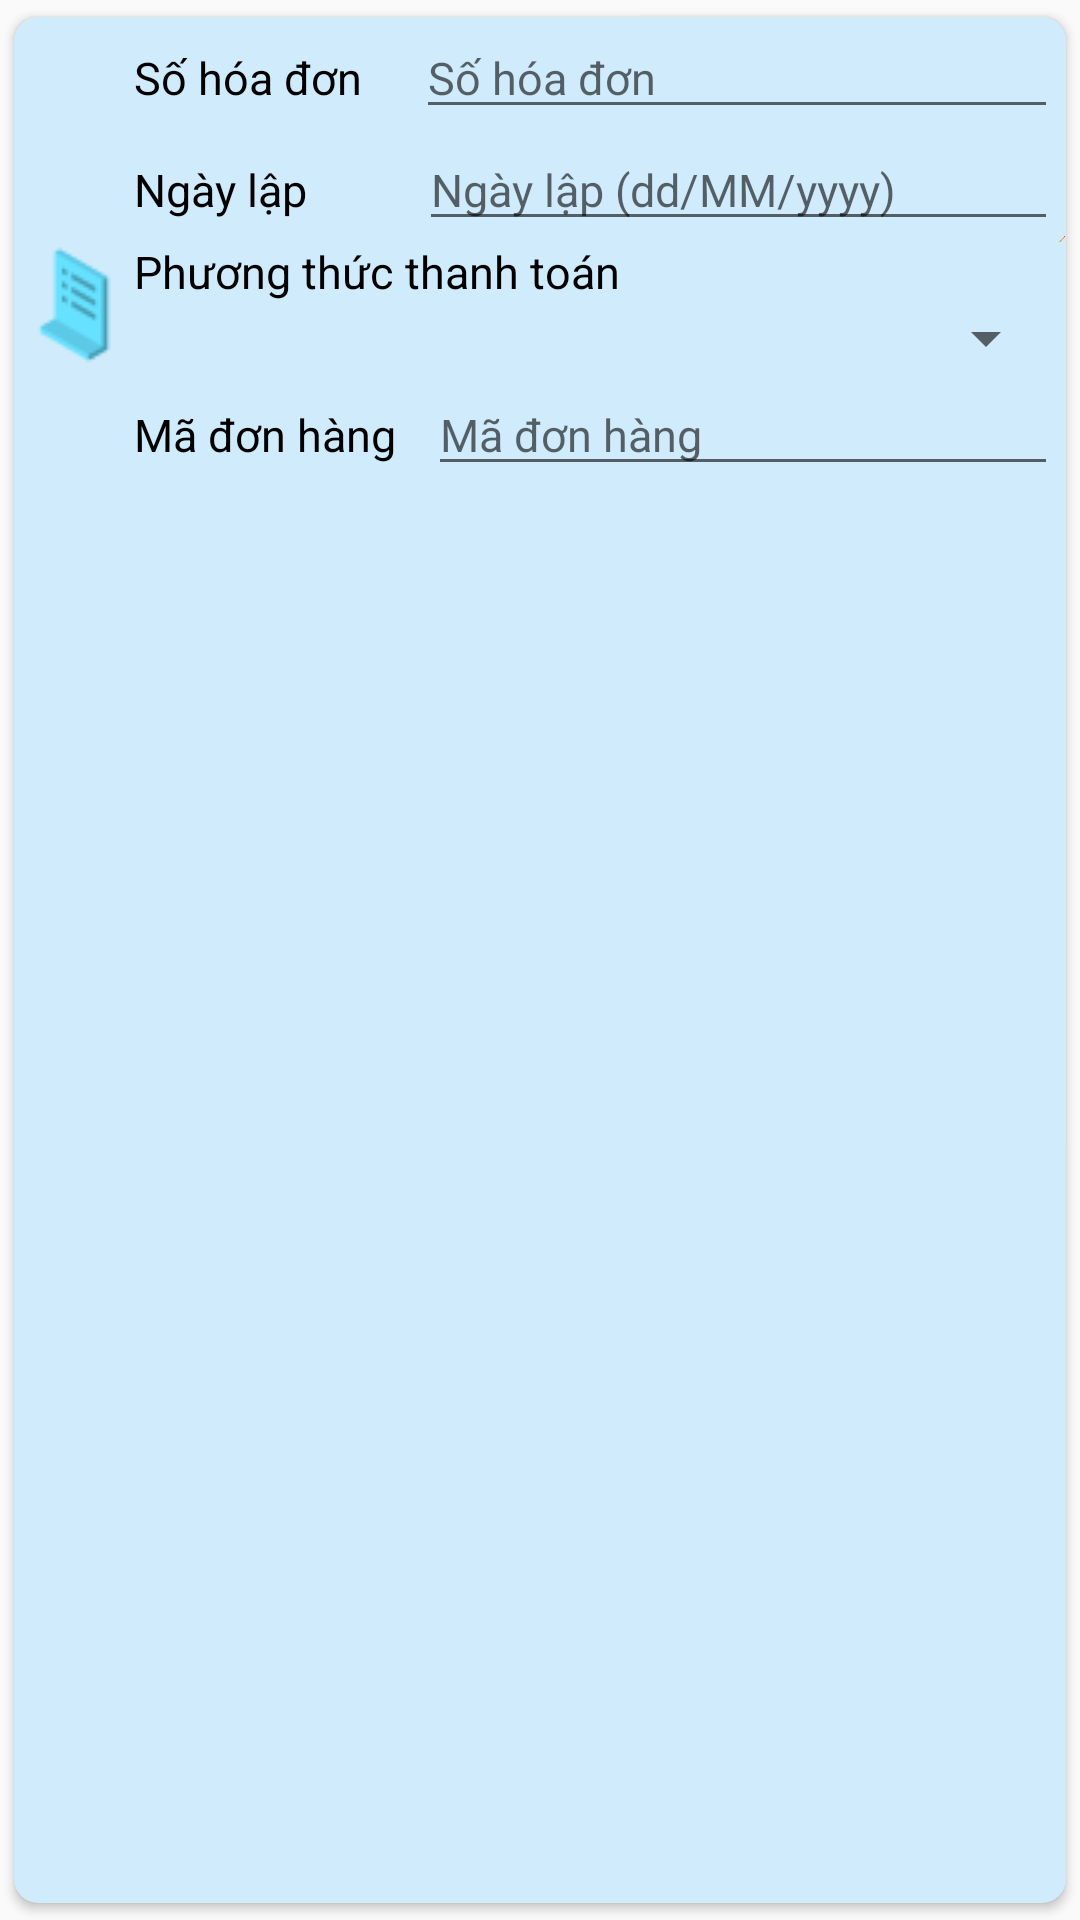

Icons on this 1080x1920 Android screen, each with its box as (x1, y1, x2, y2):
hoadon: (40, 248, 110, 362)
